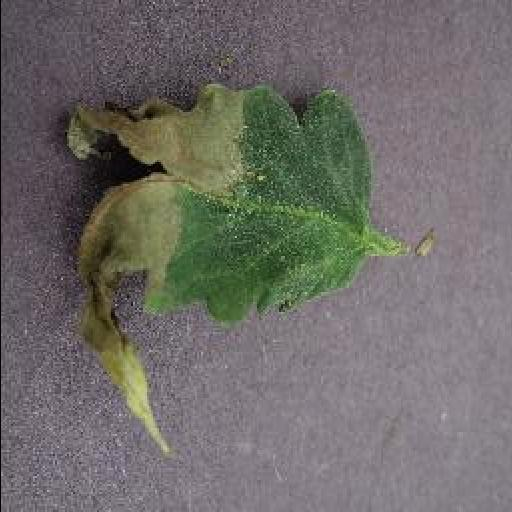disease_tomato: (55, 76, 377, 456)
